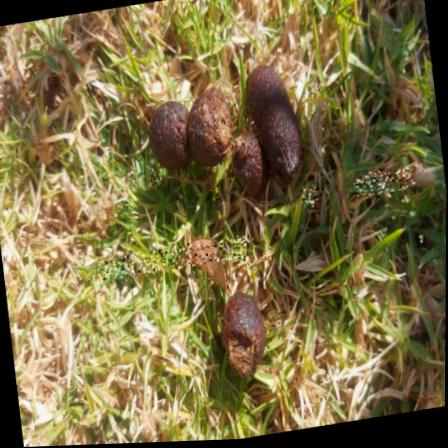dog-poop: (139, 55, 326, 222), (202, 282, 288, 377)
